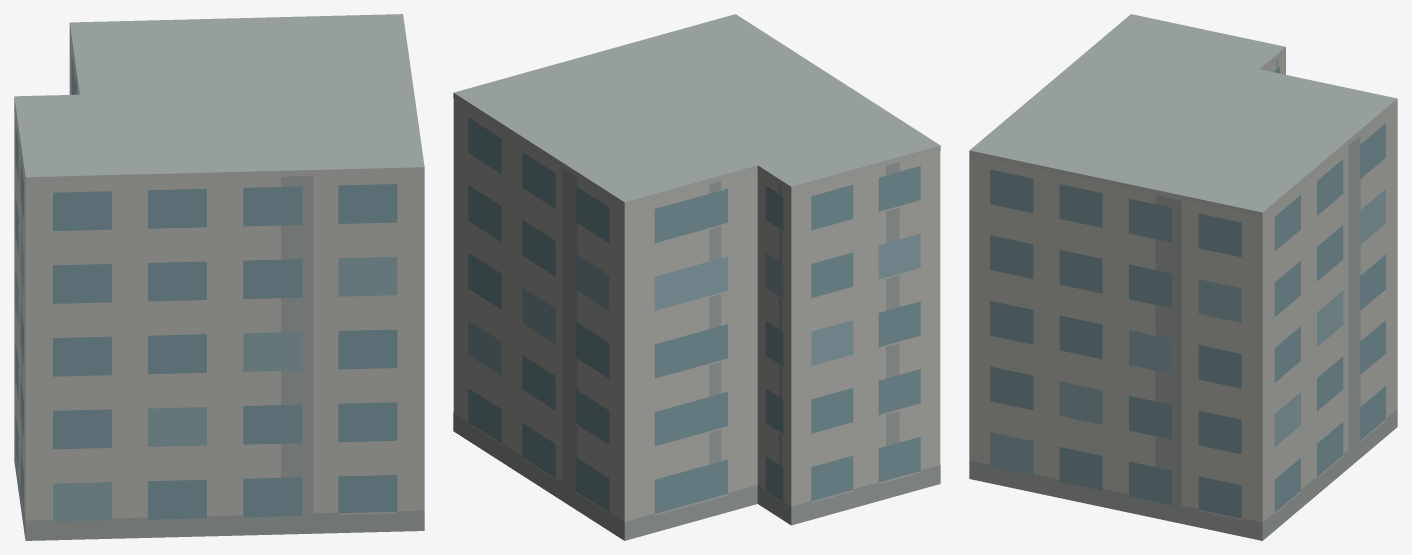
The model's file is residential-9942d509-4fd1-4341-a0a1-afe95ee10461.glb.
3 renders of one model, left to right at view 1: azimuth 30°, elevation 25°; view 2: azimuth 150°, elevation 25°; view 3: azimuth 270°, elevation 25°, orthographic. The views are drawn at different scales.
Parts seen in each view (by area): view 1: residential-9942d509-4fd1-4341-a0a1-afe95ee10461.tmp; view 2: residential-9942d509-4fd1-4341-a0a1-afe95ee10461.tmp; view 3: residential-9942d509-4fd1-4341-a0a1-afe95ee10461.tmp.
Part boxes in pixels (bbox=[...]): residential-9942d509-4fd1-4341-a0a1-afe95ee10461.tmp: bbox=[14, 14, 424, 540]; residential-9942d509-4fd1-4341-a0a1-afe95ee10461.tmp: bbox=[453, 14, 940, 540]; residential-9942d509-4fd1-4341-a0a1-afe95ee10461.tmp: bbox=[969, 14, 1397, 540].
Bounding box in the file's own units: 19.45 × 15 × 17.73.
